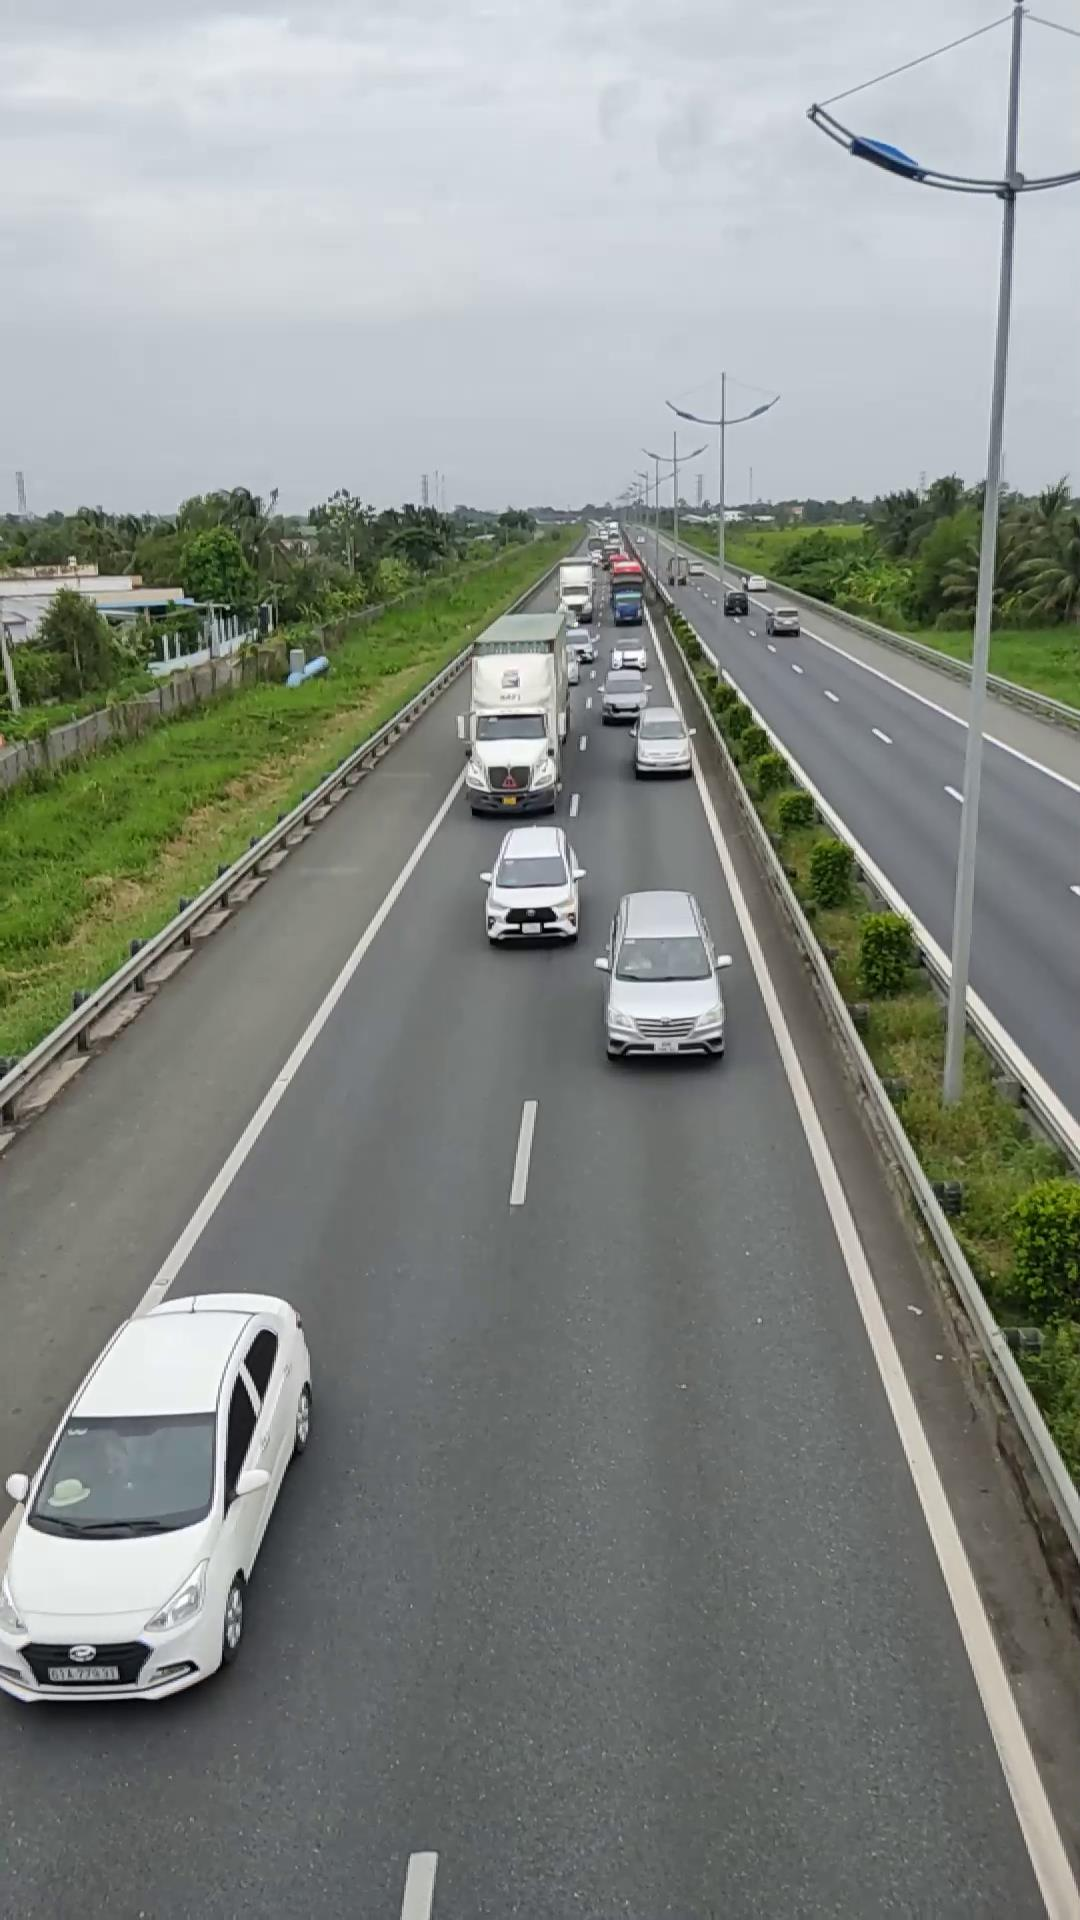car: (0, 1287, 318, 1706), (599, 887, 728, 1062), (480, 822, 585, 945), (632, 708, 695, 775)
container: (458, 607, 574, 815)
